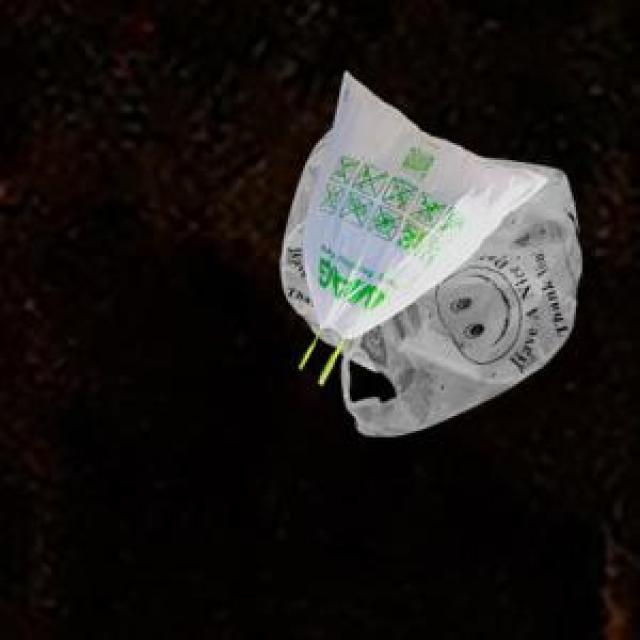waste: (281, 72, 581, 436)
